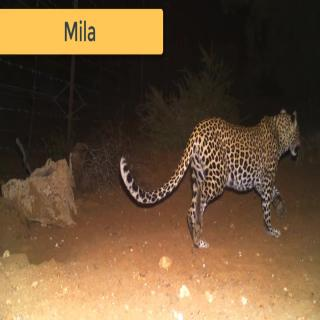Leopard: (120, 106, 302, 250)
